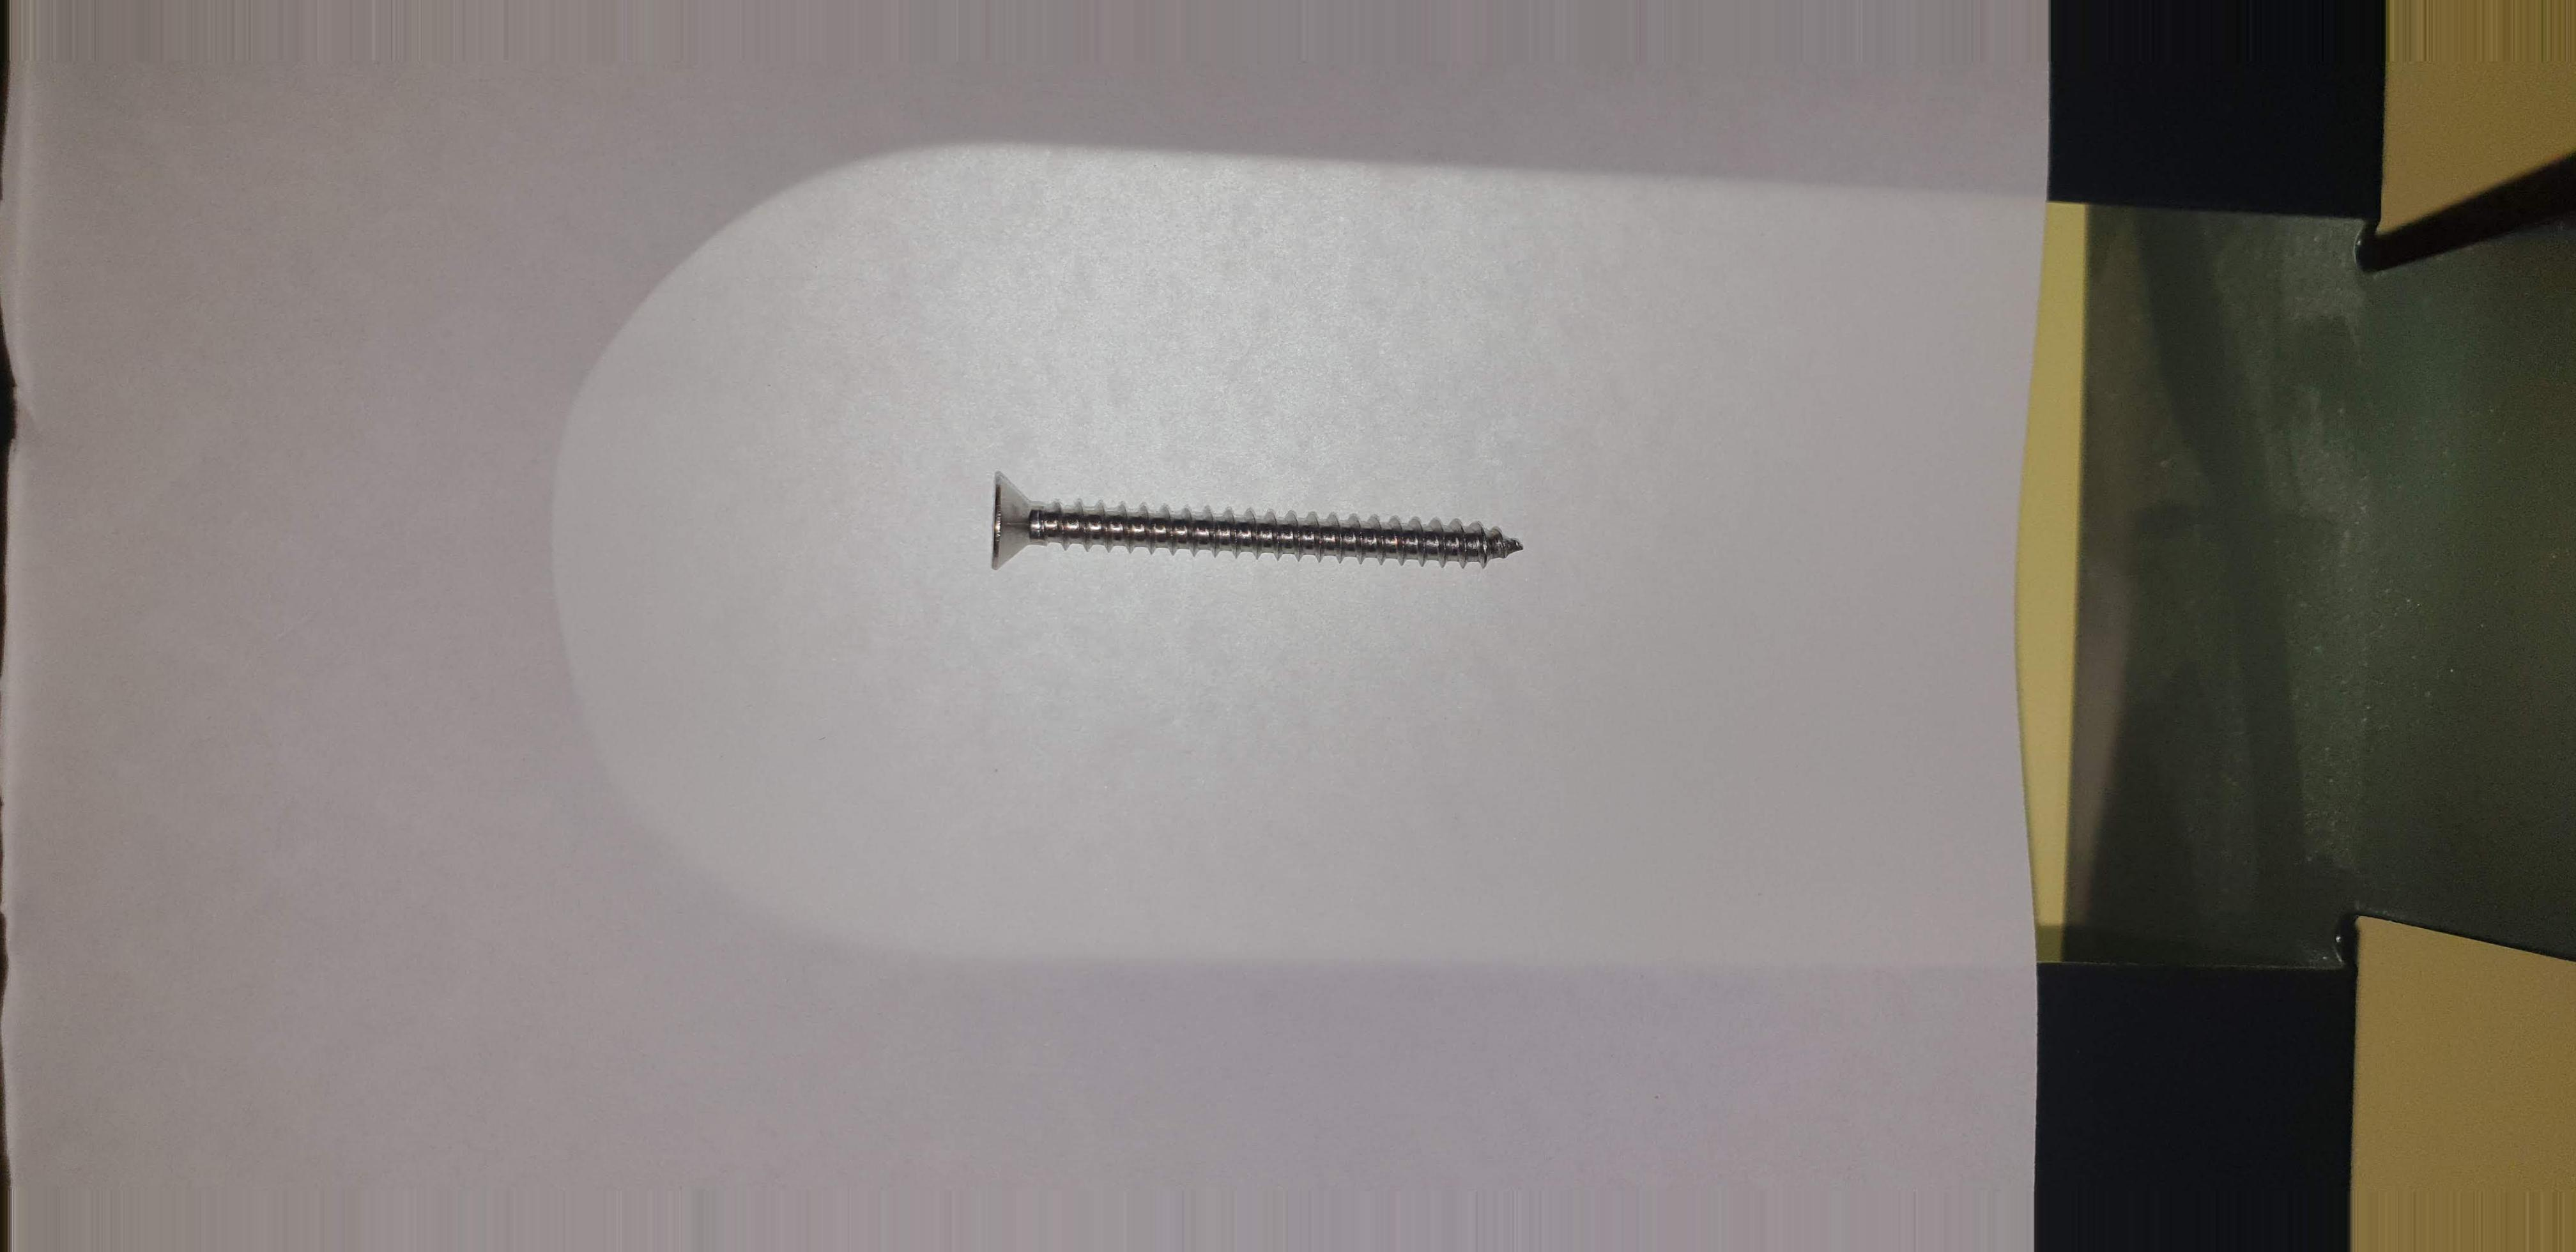fastener: (959, 432, 1569, 624)
